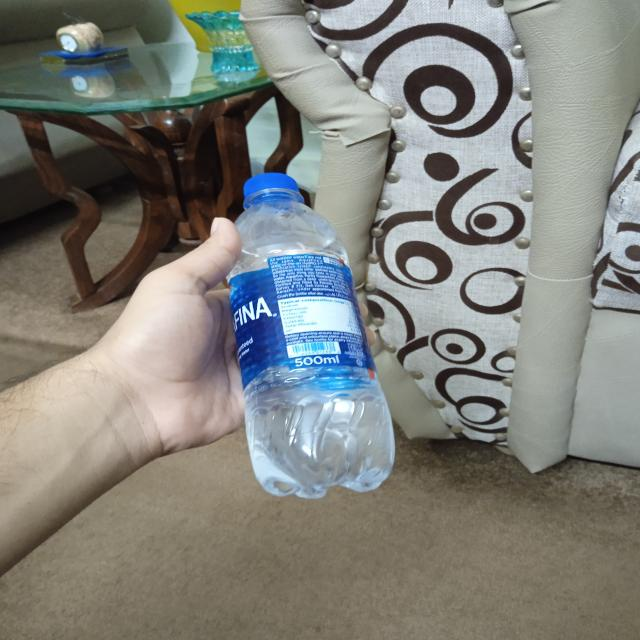Plastic: (216, 163, 420, 511)
